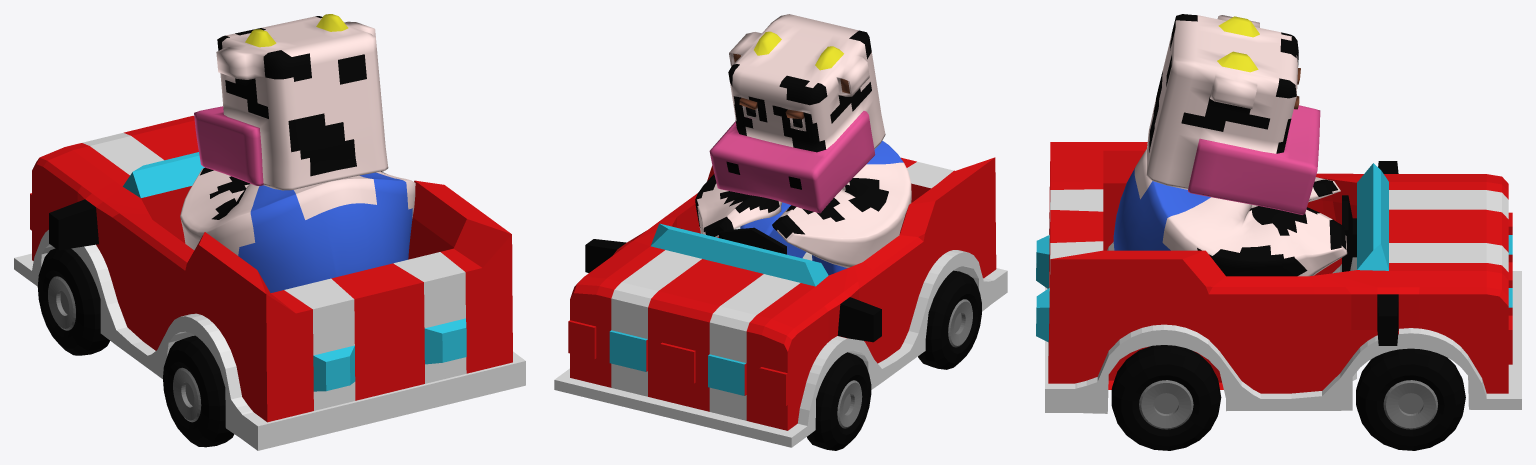
The model's file is cow_updated_3.glb.
The picture shows the model from 3 angles, left to right: view 1: azimuth 30°, elevation 25°; view 2: azimuth 150°, elevation 25°; view 3: azimuth 270°, elevation 25°; orthographic projection. The views are drawn at different scales.
Visible parts, largest first — view 1: car_body, cow, wheel_back_left, wheel_front_left; view 2: car_body, cow, wheel_back_left, wheel_front_left; view 3: car_body, cow, wheel_back_right, wheel_front_right.
Boxes of the visible parts, <box> form: car_body: <box>14,115,525,450</box>; cow: <box>180,14,415,292</box>; wheel_back_left: <box>163,335,234,447</box>; wheel_front_left: <box>37,248,109,355</box>; car_body: <box>554,157,1007,447</box>; cow: <box>695,14,911,275</box>; wheel_back_left: <box>918,270,981,369</box>; wheel_front_left: <box>807,352,871,450</box>; car_body: <box>1036,142,1521,413</box>; cow: <box>1113,14,1347,276</box>; wheel_back_right: <box>1111,345,1221,450</box>; wheel_front_right: <box>1356,348,1465,450</box>.
Bounding box in the file's own units: 2.2 × 2.33 × 2.9.
